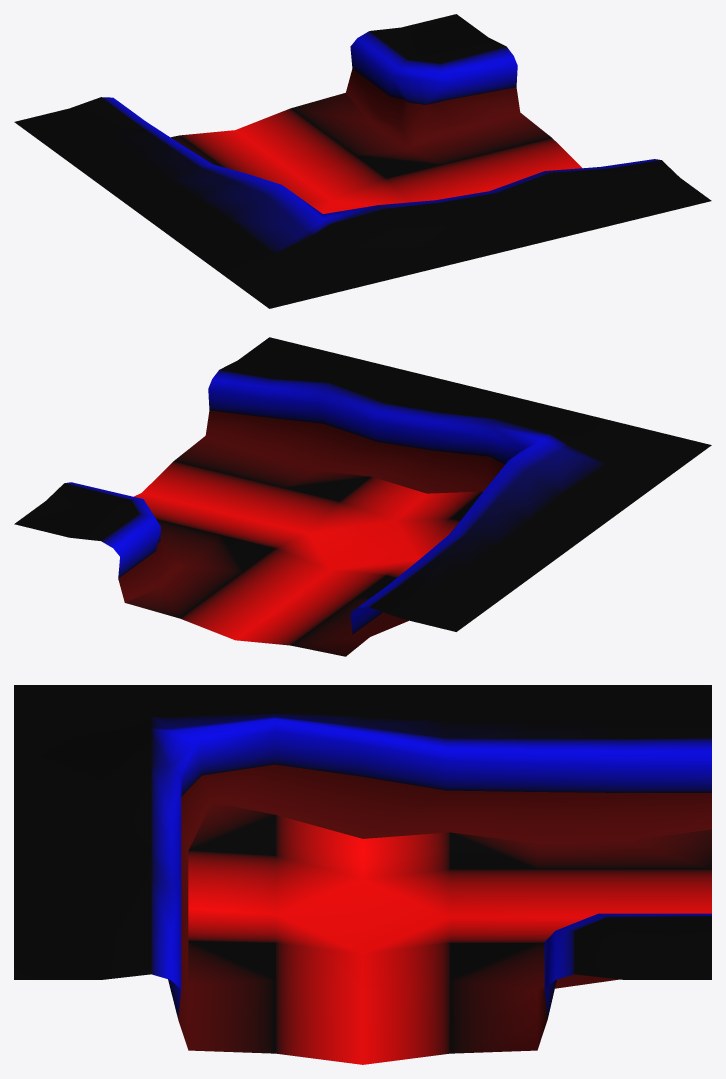
The model's file is 90degTurn_path1.fbx.
The picture shows the model from 3 angles, top to bottom: view 1: azimuth 30°, elevation 25°; view 2: azimuth 150°, elevation 25°; view 3: azimuth 270°, elevation 25°; orthographic projection. The views are drawn at different scales.
Visible parts, largest first — view 1: 90DegreeTurn_Path; view 2: 90DegreeTurn_Path; view 3: 90DegreeTurn_Path.
Boxes of the visible parts, left/top/right/bottom form: 90DegreeTurn_Path: left=14, top=14, right=711, bottom=308; 90DegreeTurn_Path: left=14, top=337, right=711, bottom=656; 90DegreeTurn_Path: left=14, top=685, right=711, bottom=1064.
Size of the model in its own units: 2560 by 497 by 2560.
